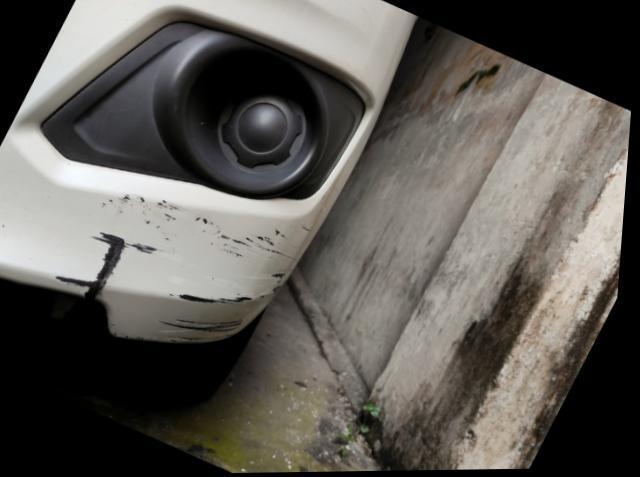scratch: (64, 188, 313, 342)
